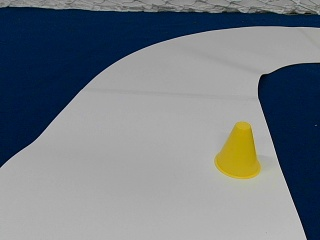cone: (215, 122, 261, 178)
